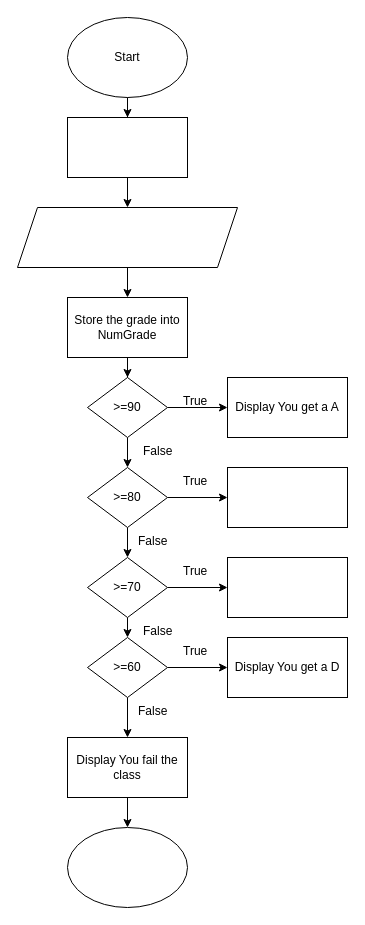
Some shapes in this 365 by 925 pixel diagram are drawn without their labels. Here are the shapes that lost their labels. From the top down, the centre of each, then its label:
the point at 127,147: Declare Variable NumGrade
the point at 127,237: Ask the User to enter he/she grade
the point at 287,497: Display You get a B
the point at 287,587: Display You get a C
the point at 127,867: End
